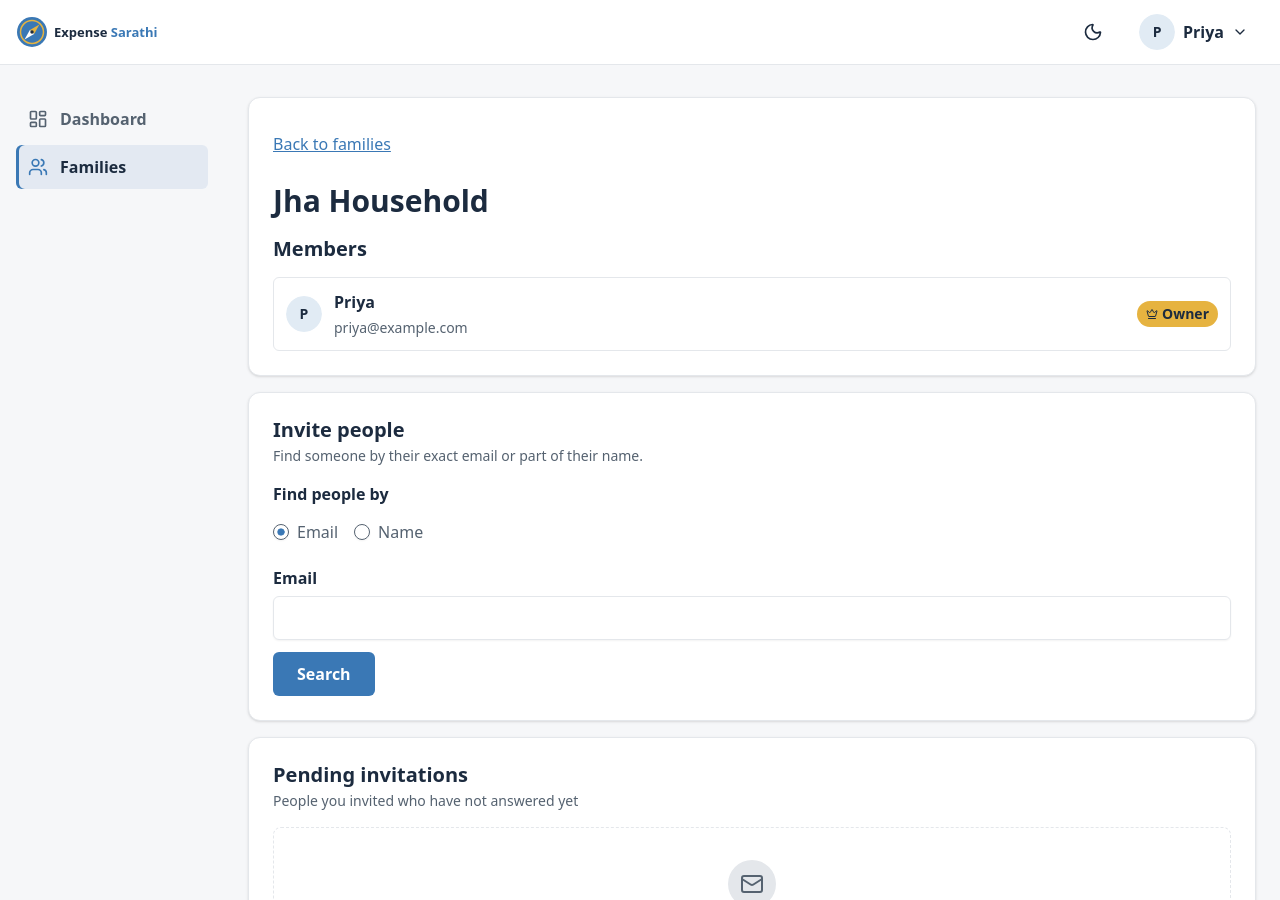
Test: Family detail page › finds a user by email and invites them into the pending list
The width and height of the screenshot is (1280, 900).
Click the 1st radio button named "Email". click: x=281, y=532
box: [273, 524, 289, 540]
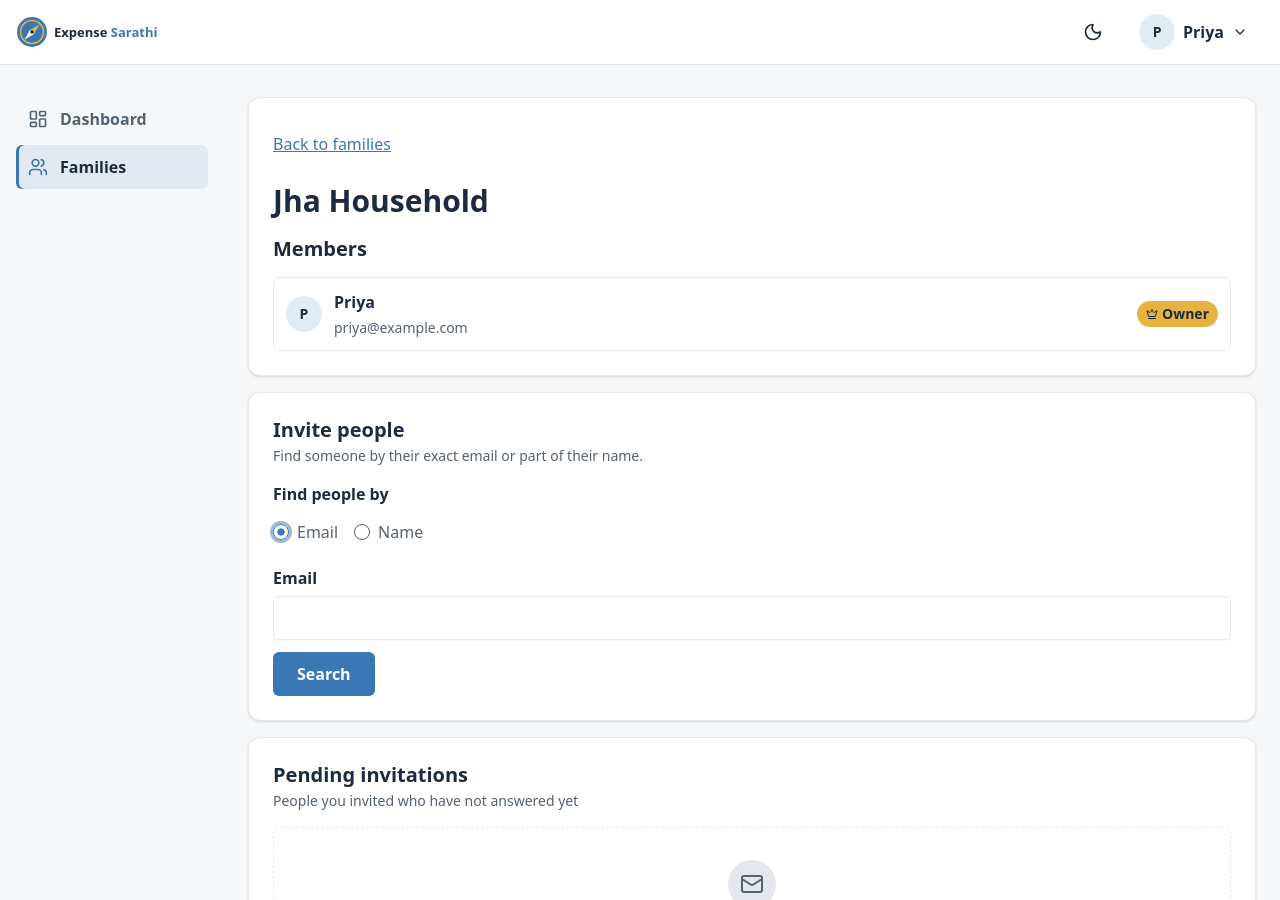
Type "ravi@example.com" into the field labelled "Email". click: x=752, y=618
box: [273, 596, 1231, 640]
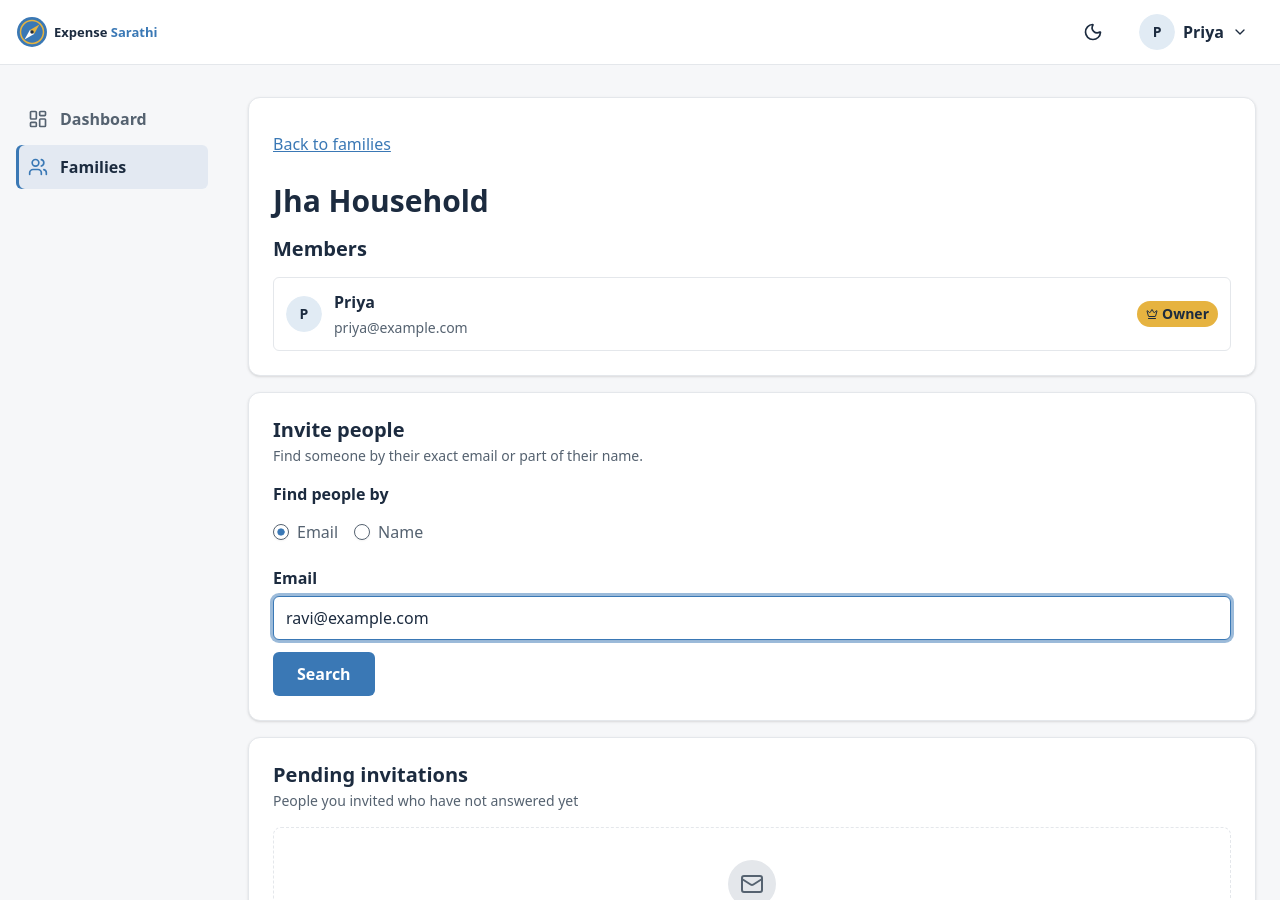
Click the button "Search". click: x=324, y=674
box: [273, 652, 375, 696]
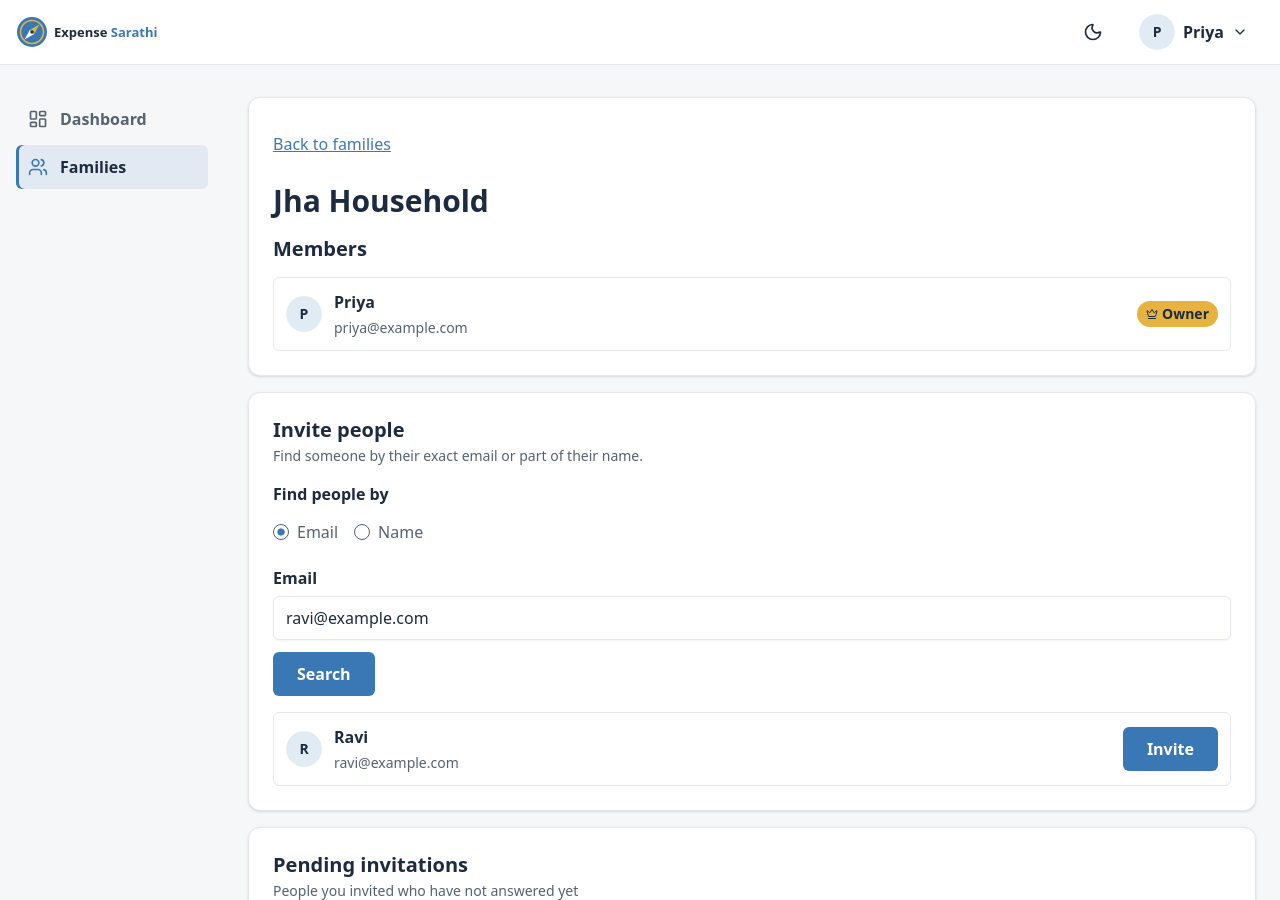
Click the button with aria-label "Invite Ravi". click: x=1170, y=748
box: [1123, 726, 1218, 770]
(page scrolled)
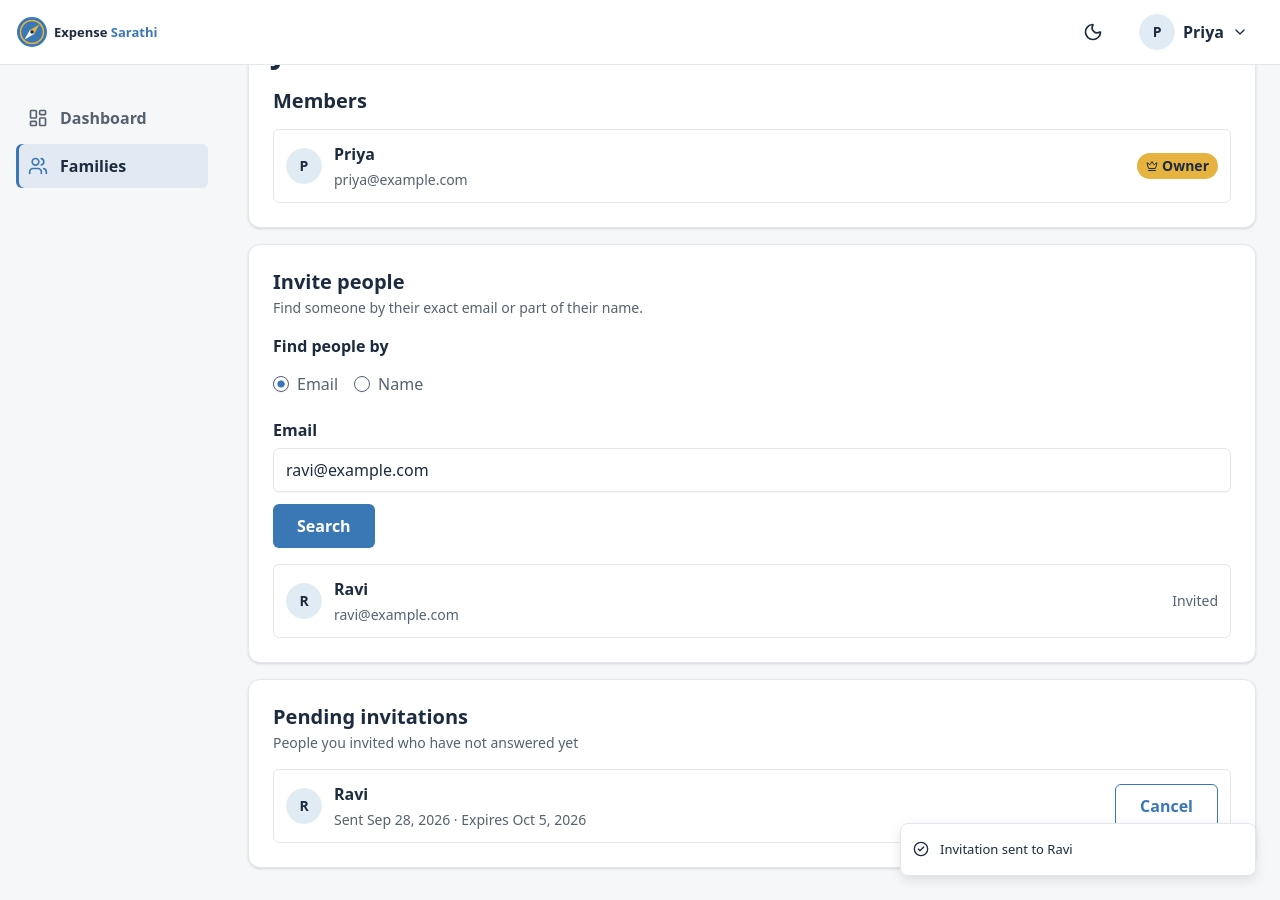
Check: the text "Invitation sent to Ravi" is shown, box [940, 840, 1073, 859]
Check: the text "Ravi" below "Pending invitations" is shown, box [334, 782, 368, 804]
Check: the text "Sent Sep 28, 2026 · Expires Oct 5, 2026" is shown, box [334, 810, 586, 830]
